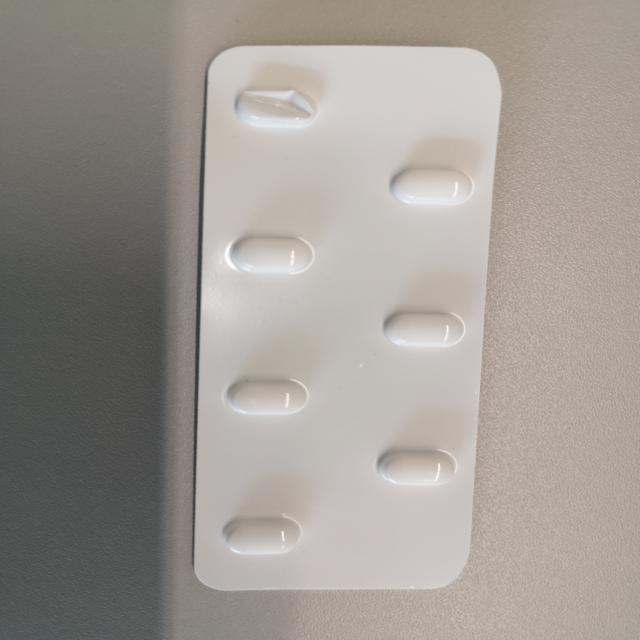Empty: (231, 84, 318, 130)
Pill: (374, 306, 473, 351), (216, 374, 315, 418), (223, 232, 316, 278), (386, 163, 476, 209), (218, 512, 306, 558), (374, 445, 460, 487)
